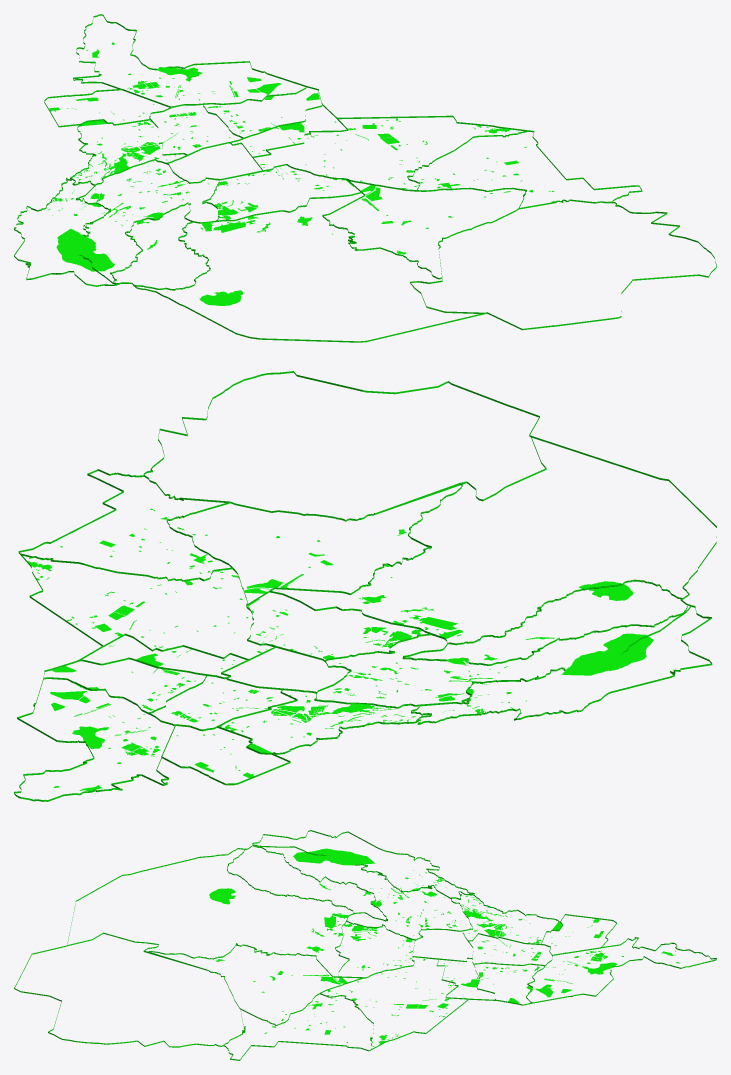
Rendered from alcaldias.glb.
3 views of the same model, one above another, from view 1: azimuth 30°, elevation 25°; view 2: azimuth 150°, elevation 25°; view 3: azimuth 270°, elevation 25° (orthographic). The views are drawn at different scales.
Visible parts, largest first — view 1: Areas_verdes; view 2: Areas_verdes; view 3: Areas_verdes.
Part boxes in pixels (<box>): Areas_verdes: <box>14,14,716,342</box>; Areas_verdes: <box>14,371,716,801</box>; Areas_verdes: <box>14,830,716,1060</box>.
Size of the model in its own units: 446 by 17.69 by 603.
